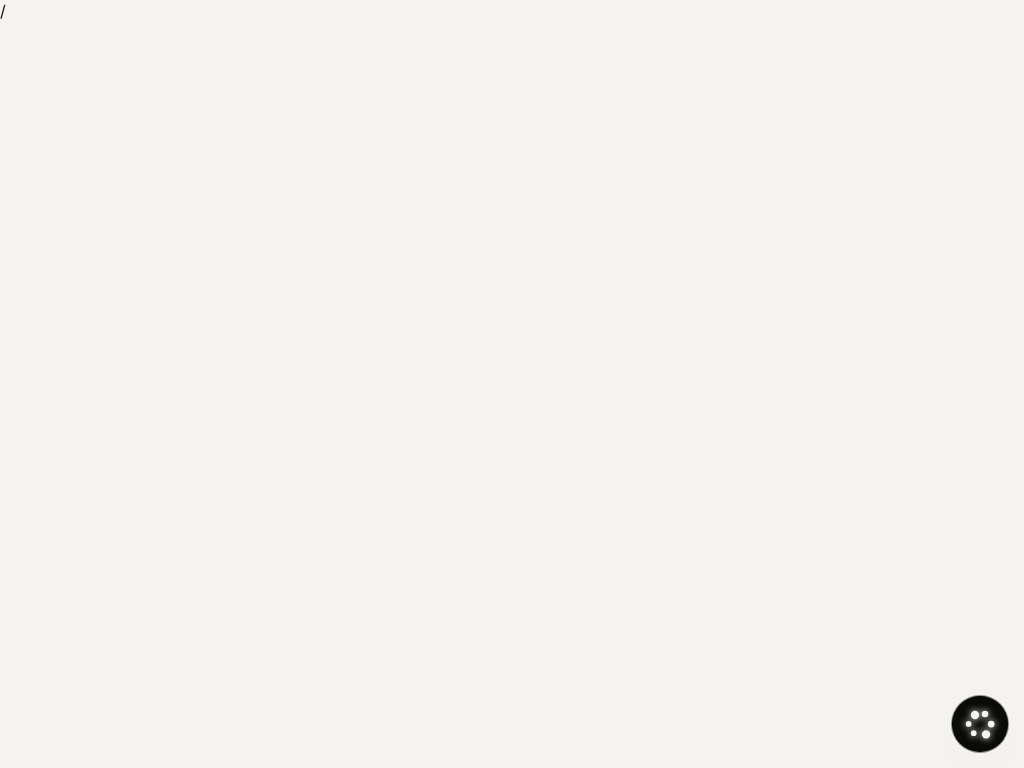
it: Asistente › una sugerencia se envía sola, y la conversación se manda completa en la siguiente
Later steps or results of the test are not shown.
Click the button named "Abrir el asistente" at (980, 724), box top-left (952, 696), bottom-right (1008, 752)
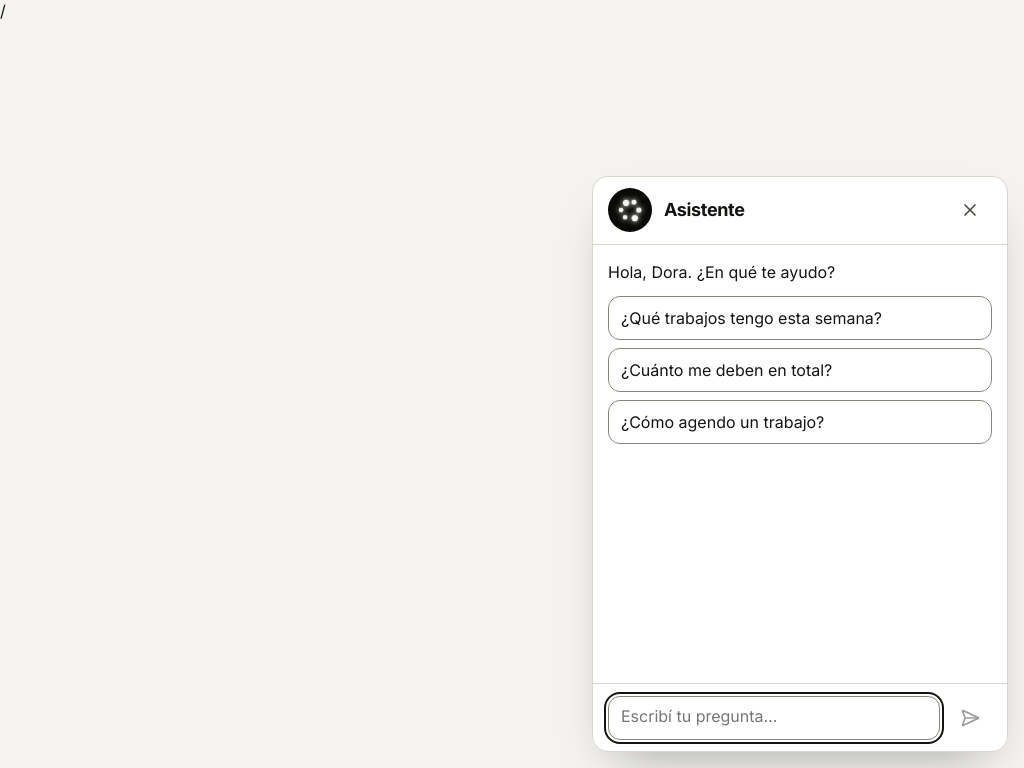
Click the button "¿Cuánto me deben en total?" at (800, 370), box top-left (608, 348), bottom-right (992, 392)
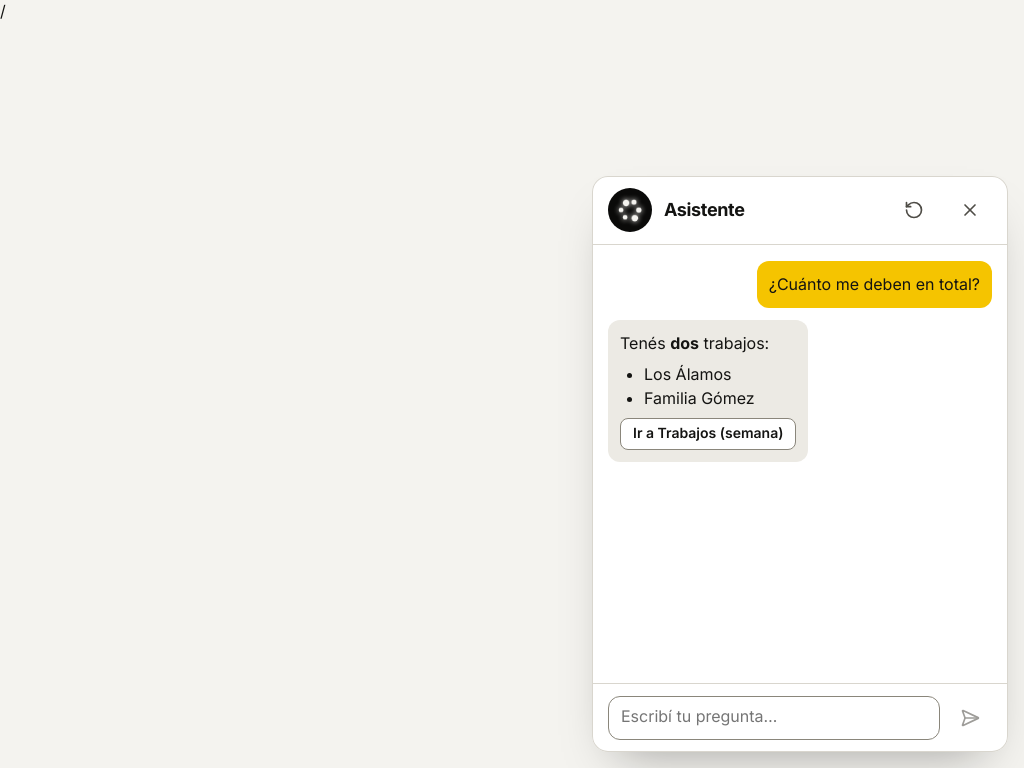
Result: the list item "Los Álamos" is shown at top-left (644, 364), bottom-right (732, 384)
